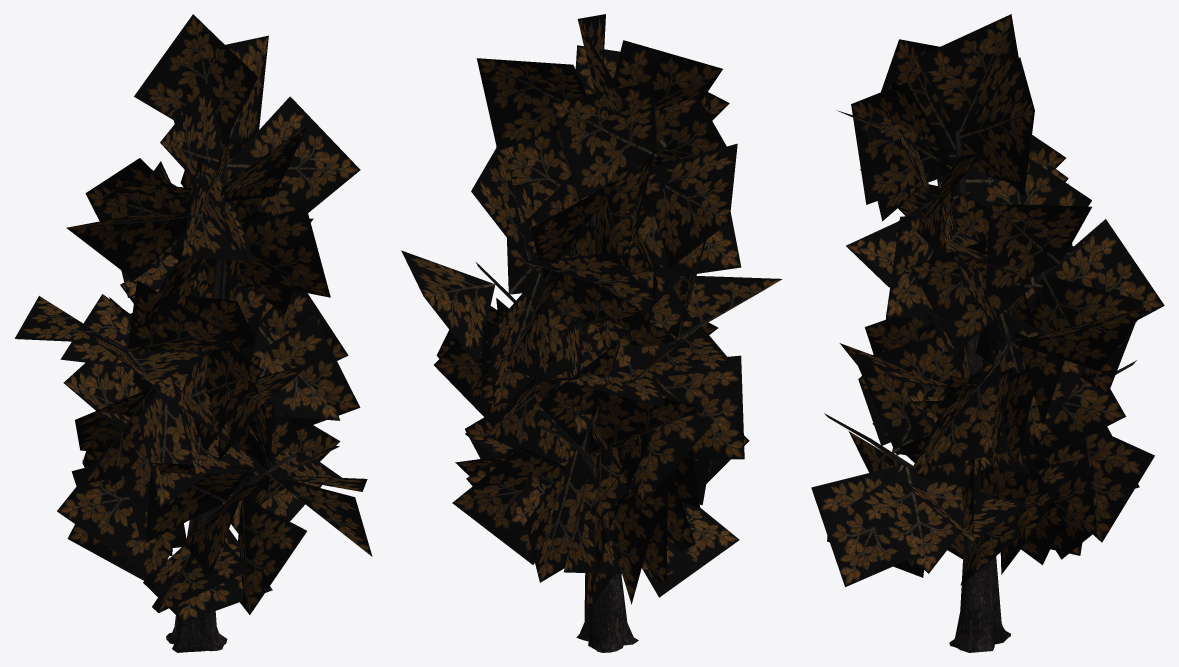
File: tree_6.obj
3 renders of one model, left to right at view 1: azimuth 30°, elevation 25°; view 2: azimuth 150°, elevation 25°; view 3: azimuth 270°, elevation 25°, orthographic. The views are drawn at different scales.
Visible parts, largest first — view 1: tree_6_leaves, tree_6; view 2: tree_6_leaves, tree_6; view 3: tree_6_leaves, tree_6.
Boxes of the visible parts, <box> form: tree_6_leaves: <box>14,14,372,622</box>; tree_6: <box>105,143,312,652</box>; tree_6_leaves: <box>401,14,782,613</box>; tree_6: <box>476,130,714,652</box>; tree_6_leaves: <box>811,14,1164,587</box>; tree_6: <box>824,131,1136,652</box>.
Size of the model in its own units: 3.25 by 6.06 by 3.07.
